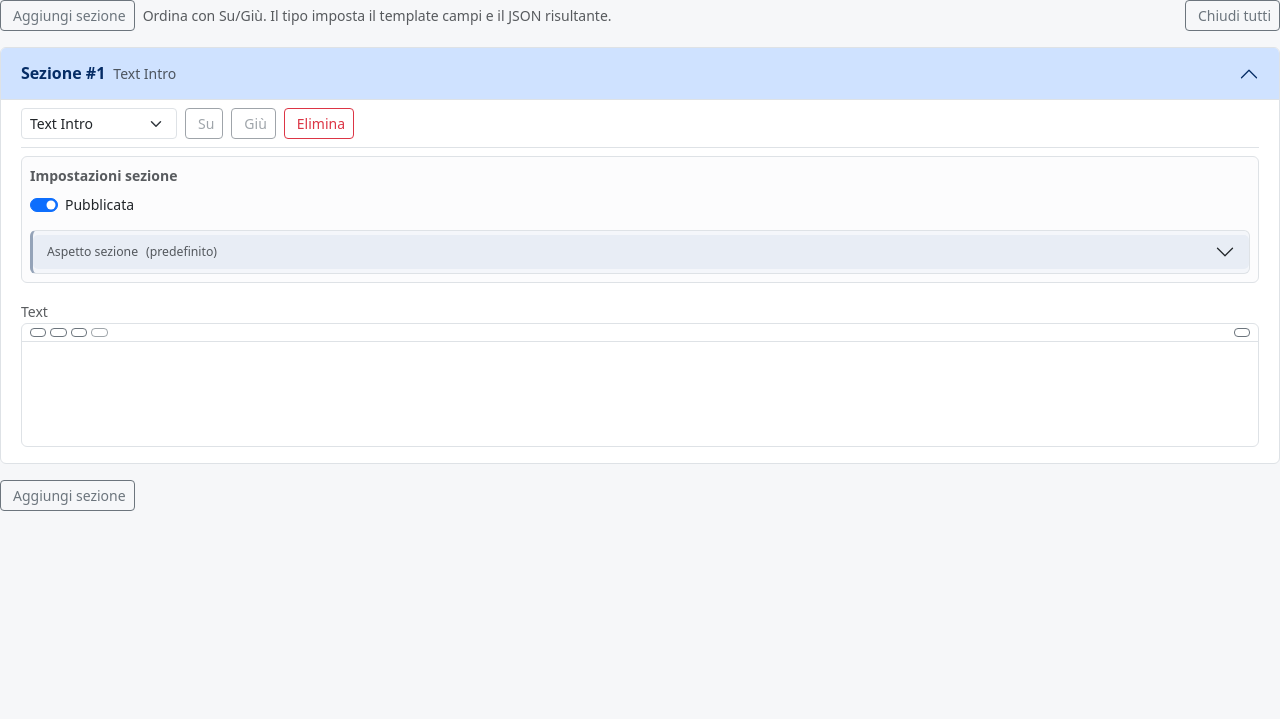
Scenario: SectionsEditor › Aggiungi sezione crea Sezione #2
This screenshot has width=1280, height=719.
Step 1. Click the 1st button "Aggiungi sezione" → [67, 16], box [0,0,135,31]
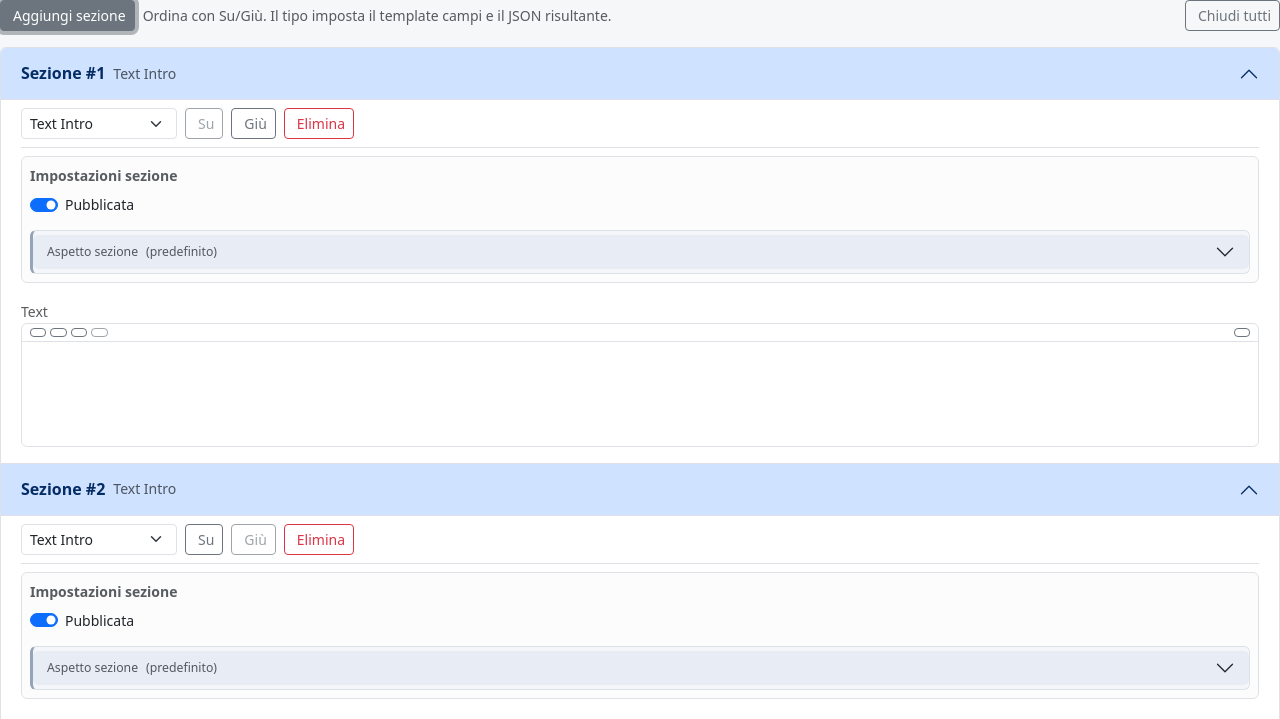
Check: the button "Sezione #2 Text Intro" is shown, box [1,464,1279,516]
